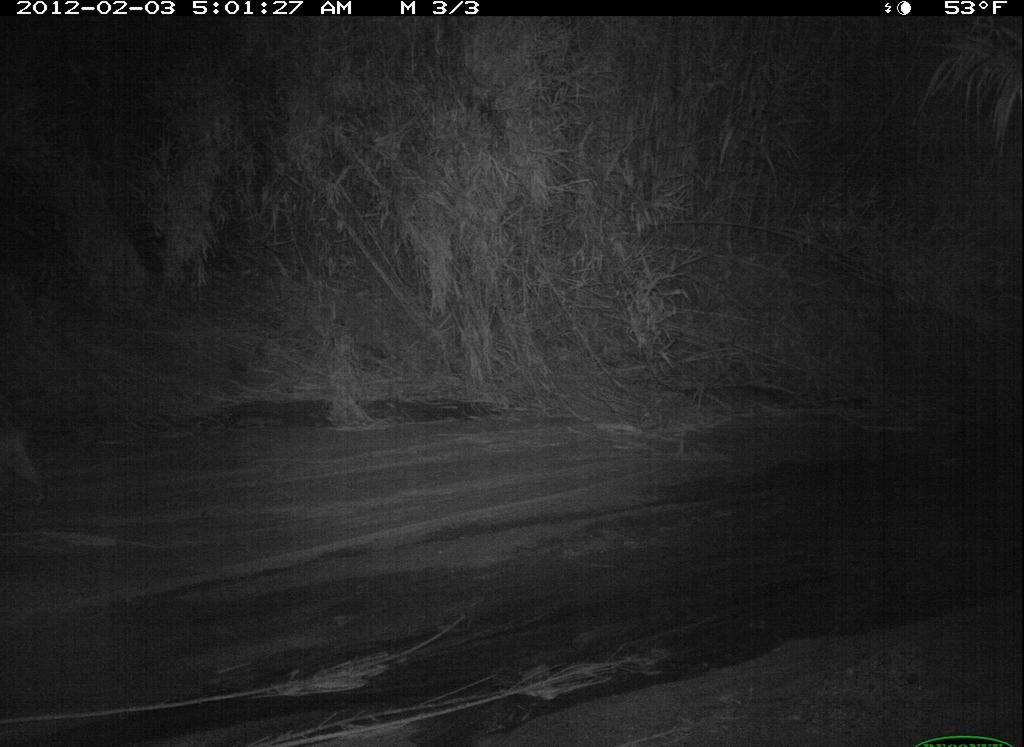bobcat: (1, 422, 58, 526)
